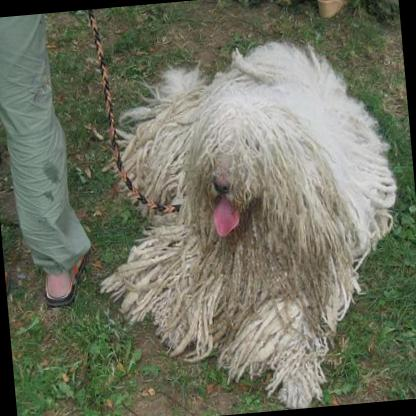komondor: (75, 26, 415, 416)
